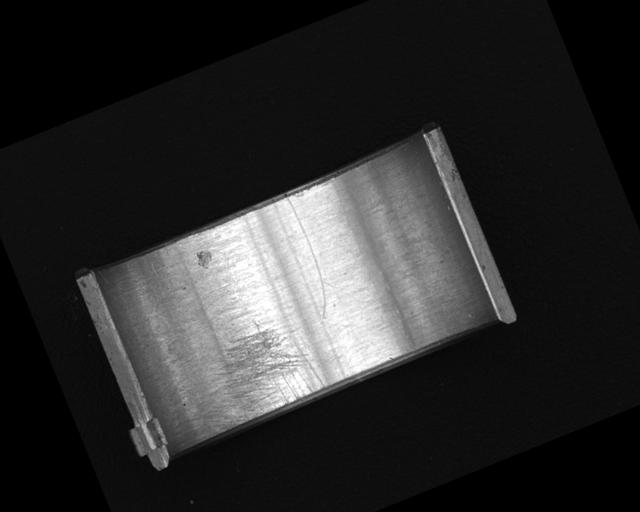bruise: (194, 246, 216, 270)
nick: (273, 192, 339, 320)
scratch: (186, 301, 331, 433)
